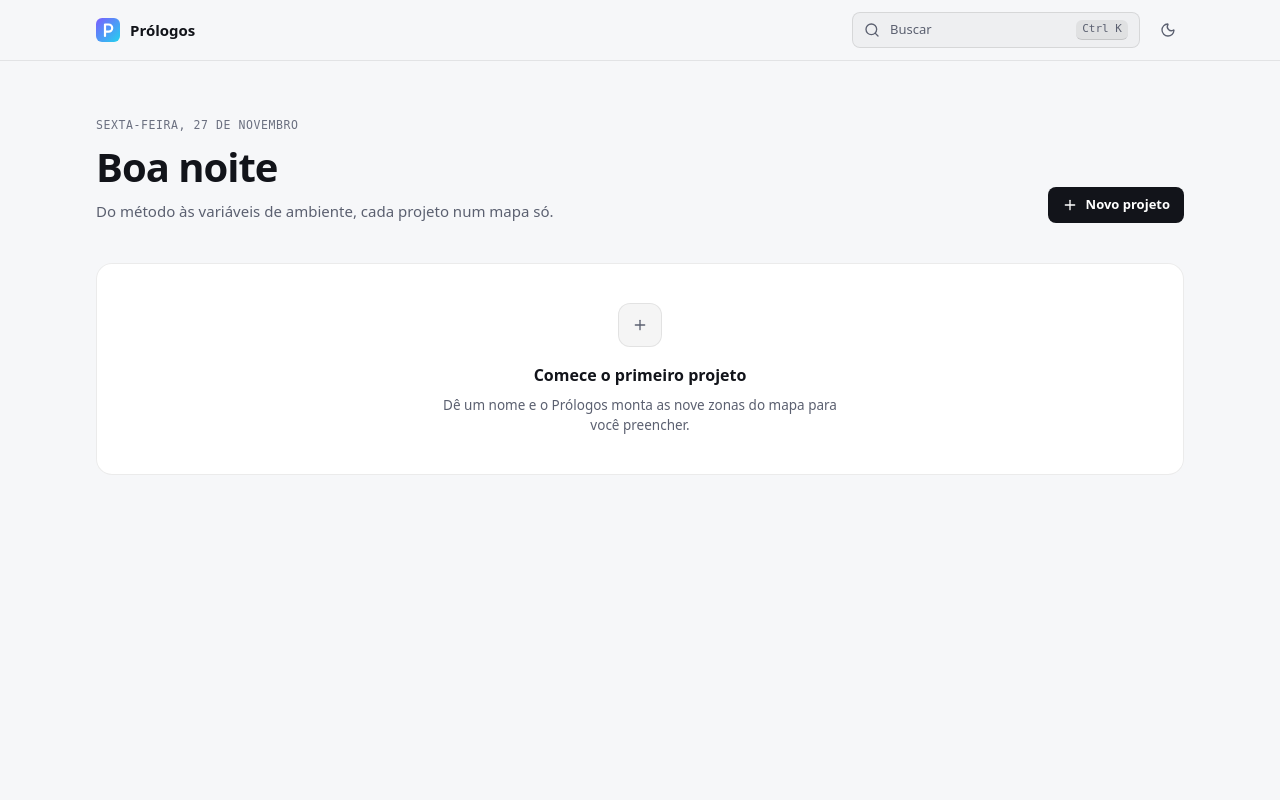
it: home (RN 4, 18) › invites to create the first project and opens the guided start
The image size is (1280, 800).
Check: the heading "Comece o primeiro projeto" is shown, box [534,363,746,387]
Click the button "Novo projeto": (1116, 205) [1048,187,1184,223]
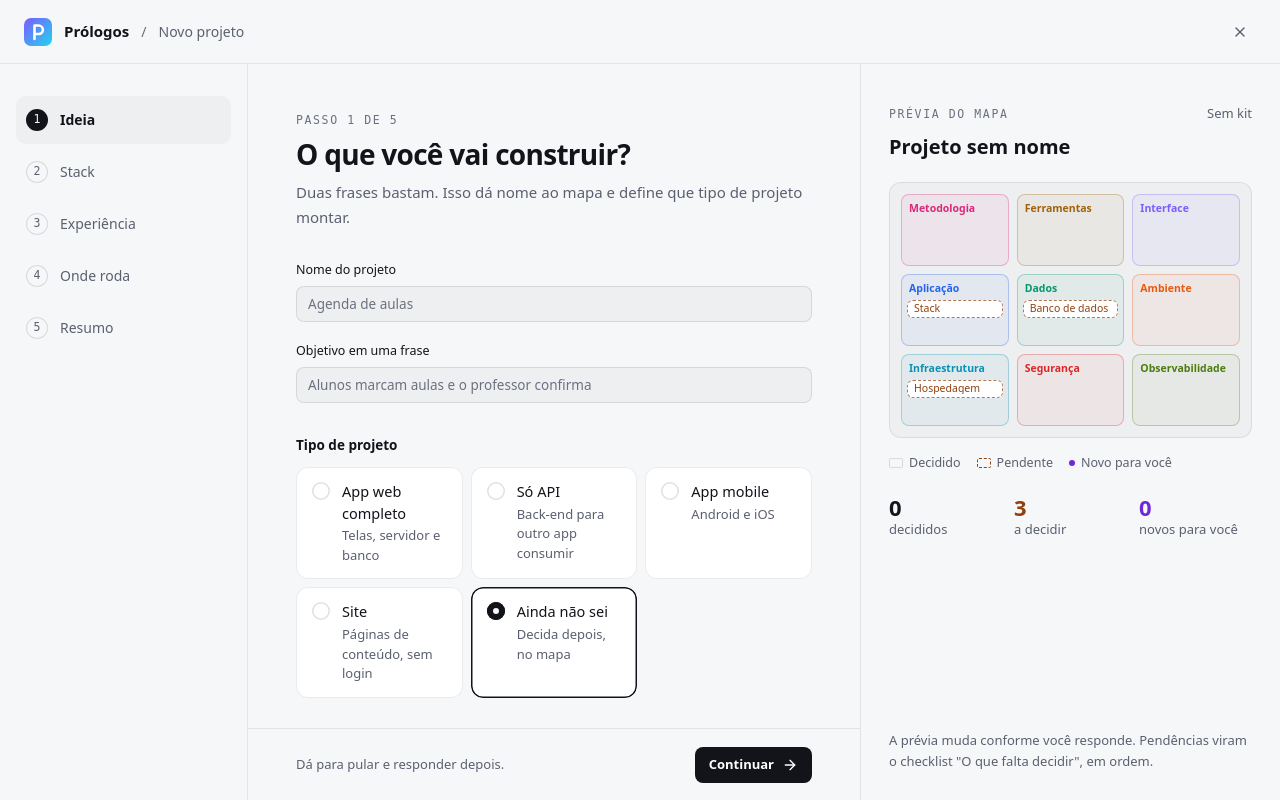
Check: the heading "O que você vai construir?" is shown, box [296,135,630,173]
